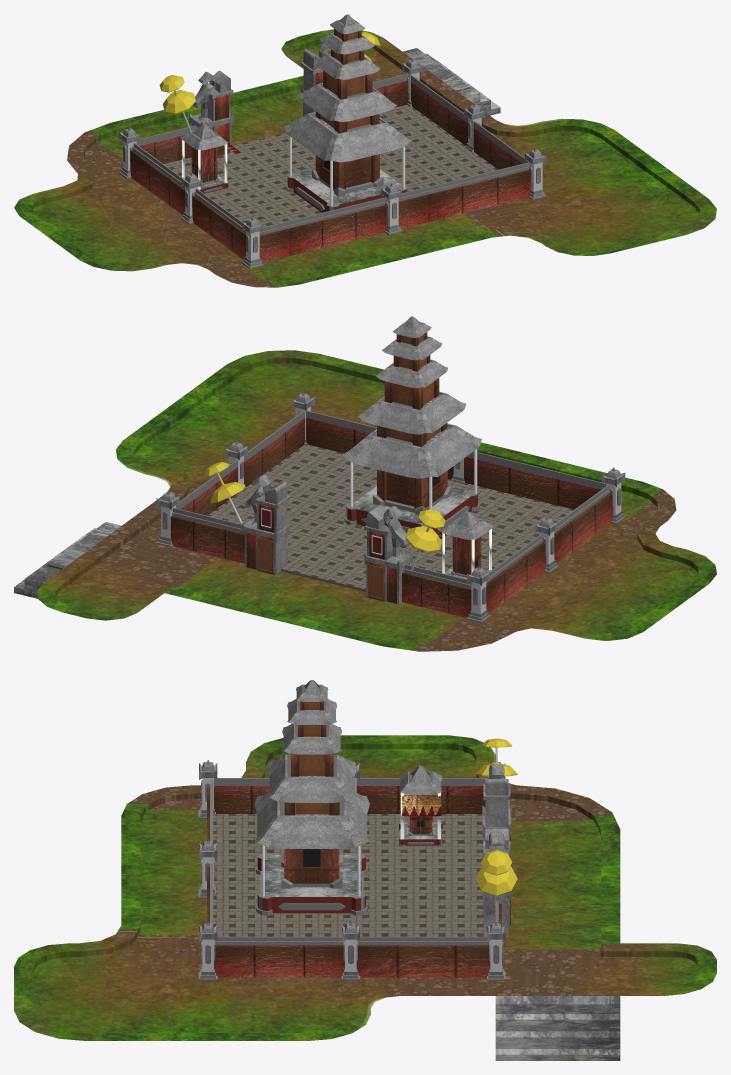
File: ulun_danu_3d.glb
3 views of the same model, one above another, from view 1: azimuth 30°, elevation 25°; view 2: azimuth 150°, elevation 25°; view 3: azimuth 270°, elevation 25° (orthographic). The views are drawn at different scales.
Parts seen in each view (by area): view 1: Cube.019, Cube.023, Cube.005, Cube.015, Cube.001, Cube, Cube.020, Cube.002, Cube.025, Cube.013, Cube.014, Cube.017 (+12 smaller); view 2: Cube.019, Cube.023, Cube.020, Cube.001, Cube, Cube.015, Cube.002, Cube.021, Cube.022, Cube.013, Cube.014, Cube.025 (+11 smaller); view 3: Cube.019, Cube.023, Cube, Cube.017, Cube.018, Cube.001, Cube.002, Cube.020, Cube.013, Cube.025, Cube.014, Cube.003 (+8 smaller).
Boxes of the visible parts, x1=… form: Cube.019: x1=14, y1=29, x2=716, y2=287; Cube.023: x1=164, y1=105, x2=497, y2=226; Cube.005: x1=398, y1=162, x2=531, y2=228; Cube.015: x1=259, y1=197, x2=387, y2=262; Cube.001: x1=284, y1=111, x2=411, y2=162; Cube: x1=286, y1=154, x2=407, y2=212; Cube.020: x1=189, y1=44, x2=330, y2=155; Cube.002: x1=298, y1=70, x2=396, y2=122; Cube.025: x1=181, y1=124, x2=229, y2=193; Cube.013: x1=130, y1=143, x2=184, y2=214; Cube.014: x1=192, y1=188, x2=245, y2=259; Cube.017: x1=411, y1=75, x2=467, y2=145; Cube.019: x1=14, y1=350, x2=716, y2=651; Cube.023: x1=207, y1=444, x2=573, y2=591; Cube.020: x1=241, y1=474, x2=412, y2=604; Cube.001: x1=342, y1=423, x2=481, y2=478; Cube: x1=344, y1=469, x2=479, y2=534; Cube.015: x1=463, y1=451, x2=605, y2=509; Cube.002: x1=358, y1=378, x2=466, y2=434; Cube.021: x1=170, y1=507, x2=244, y2=563; Cube.022: x1=402, y1=564, x2=471, y2=617; Cube.013: x1=486, y1=534, x2=546, y2=612; Cube.014: x1=554, y1=485, x2=613, y2=562; Cube.025: x1=441, y1=511, x2=492, y2=578; Cube.019: x1=14, y1=735, x2=716, y2=1060; Cube.023: x1=213, y1=814, x2=487, y2=936; Cube: x1=256, y1=849, x2=367, y2=915; Cube.017: x1=356, y1=936, x2=490, y2=977; Cube.018: x1=214, y1=936, x2=344, y2=977; Cube.001: x1=254, y1=792, x2=369, y2=848; Cube.002: x1=267, y1=754, x2=356, y2=802; Cube.020: x1=482, y1=764, x2=511, y2=934; Cube.013: x1=356, y1=778, x2=487, y2=813; Cube.025: x1=398, y1=765, x2=443, y2=846; Cube.014: x1=214, y1=778, x2=269, y2=813; Cube.003: x1=282, y1=724, x2=341, y2=754.
Bounding box in the file's own units: 36.69 × 13.88 × 35.66.
Materials: 26 (18 with a texture image).
